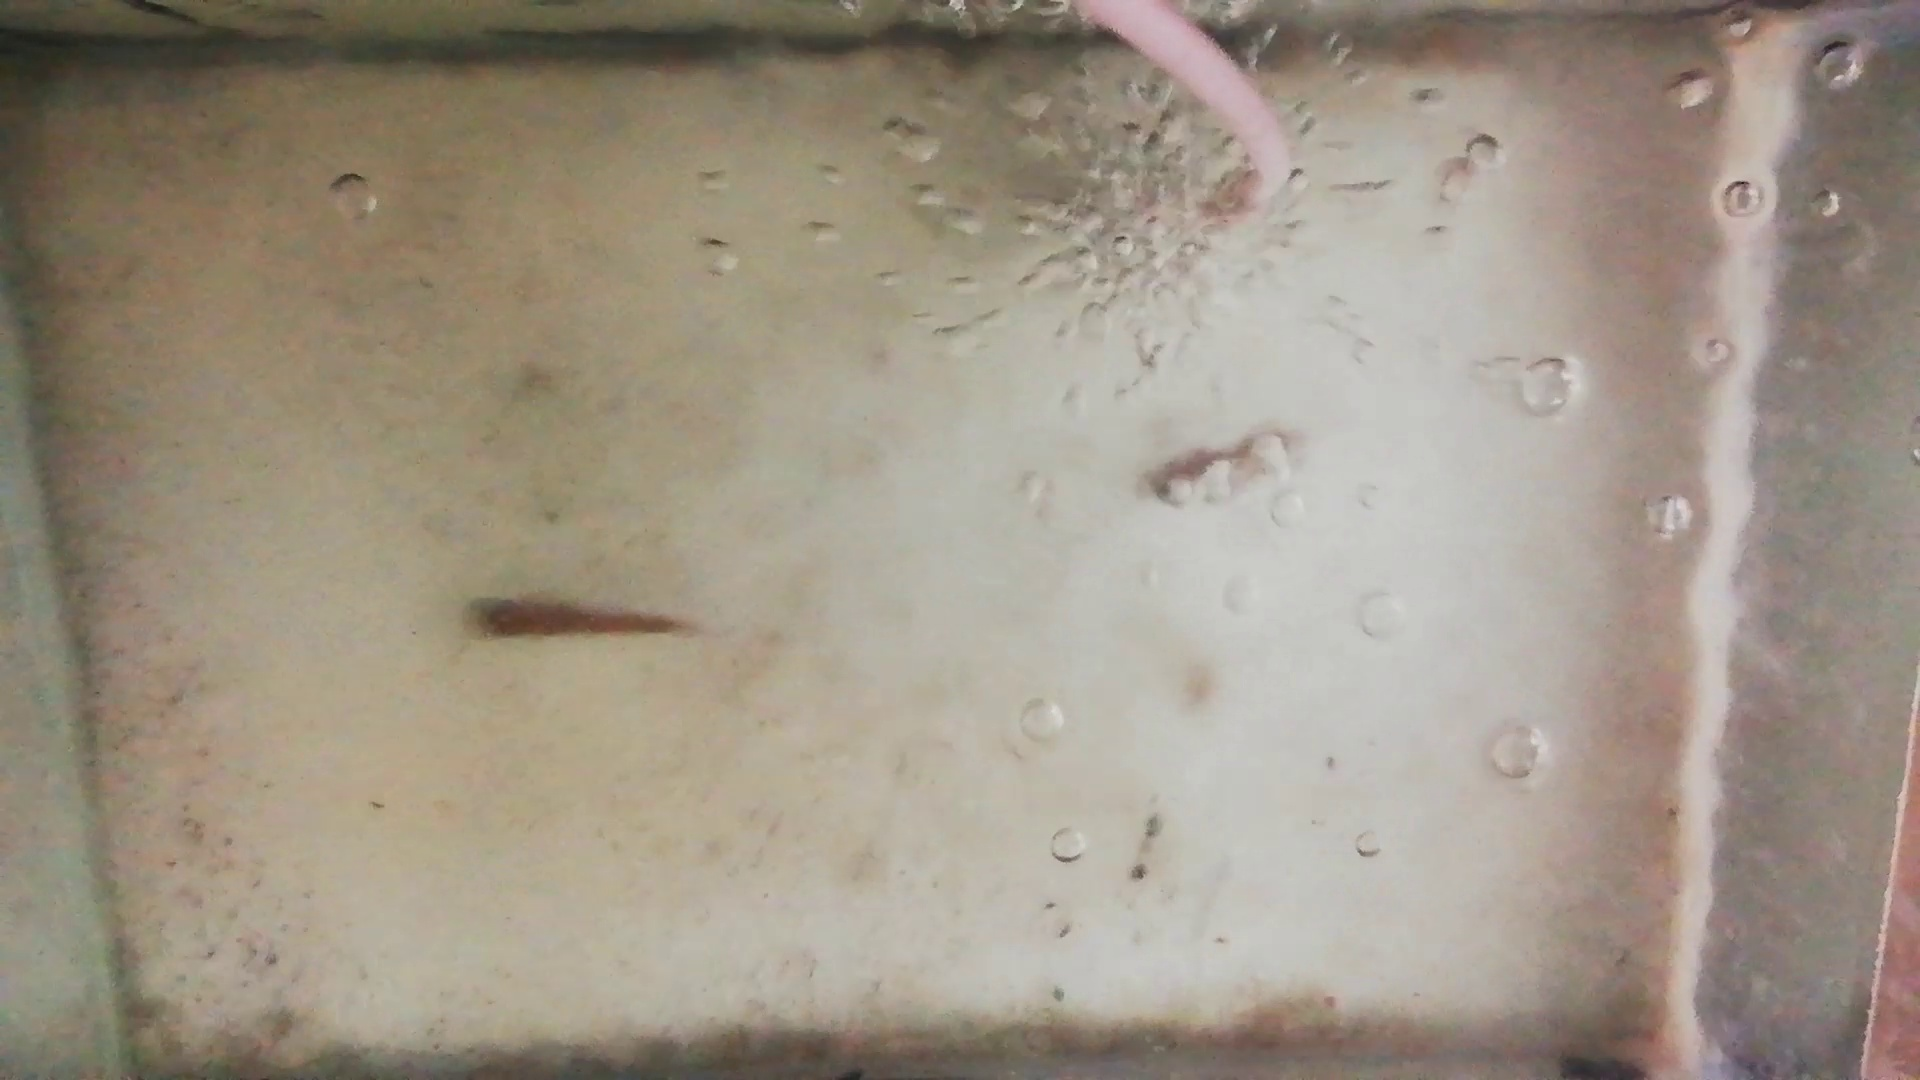fish: (458, 593, 690, 645), (1137, 433, 1288, 505)
